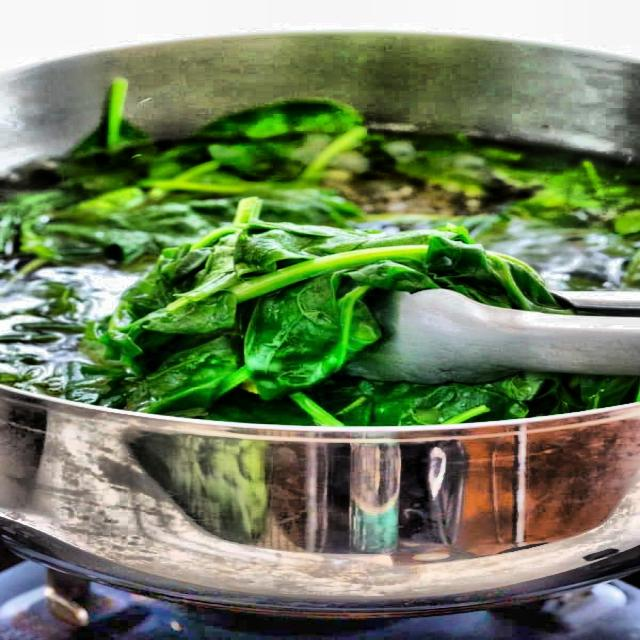spinach: (12, 36, 626, 618)
